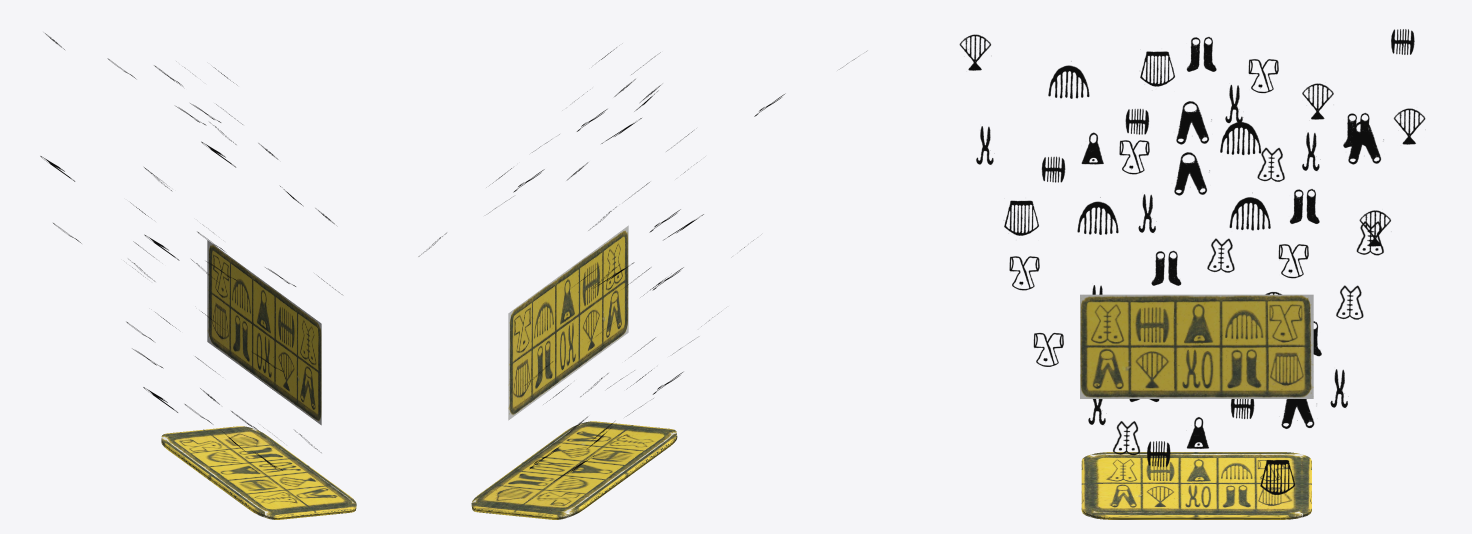
The model's file is plate.glb.
3 renders of one model, left to right at view 1: azimuth 30°, elevation 25°; view 2: azimuth 150°, elevation 25°; view 3: azimuth 270°, elevation 25°, orthographic. The views are drawn at different scales.
Parts seen in each view (by area): view 1: ec468ce3186b09be96e542ae06bb97c6, Cube; view 2: ec468ce3186b09be96e542ae06bb97c6, Cube; view 3: ec468ce3186b09be96e542ae06bb97c6, Cube, 3.001, 3.003, 10.001, 10.002, 10.004, 10.003, 8.001, 8.003, 8.002, 9.002 (+3 smaller).
Part boxes in pixels (bbox=[...]): ec468ce3186b09be96e542ae06bb97c6: bbox=[207, 240, 321, 425]; Cube: bbox=[161, 426, 356, 519]; ec468ce3186b09be96e542ae06bb97c6: bbox=[508, 225, 628, 420]; Cube: bbox=[471, 421, 677, 519]; ec468ce3186b09be96e542ae06bb97c6: bbox=[1080, 294, 1313, 398]; Cube: bbox=[1081, 452, 1311, 519]; 3.001: bbox=[1174, 152, 1209, 195]; 3.003: bbox=[1176, 101, 1211, 144]; 10.001: bbox=[1077, 197, 1118, 234]; 10.002: bbox=[1229, 192, 1270, 230]; 10.004: bbox=[1048, 61, 1089, 98]; 10.003: bbox=[1220, 117, 1261, 155]; 8.001: bbox=[1260, 460, 1294, 494]; 8.003: bbox=[1004, 200, 1038, 235]; 8.002: bbox=[1140, 51, 1174, 86]; 9.002: bbox=[1151, 250, 1181, 285].
Size of the model in its own units: 2.51 by 4.29 by 4.59.
12 materials, 12 textured.
